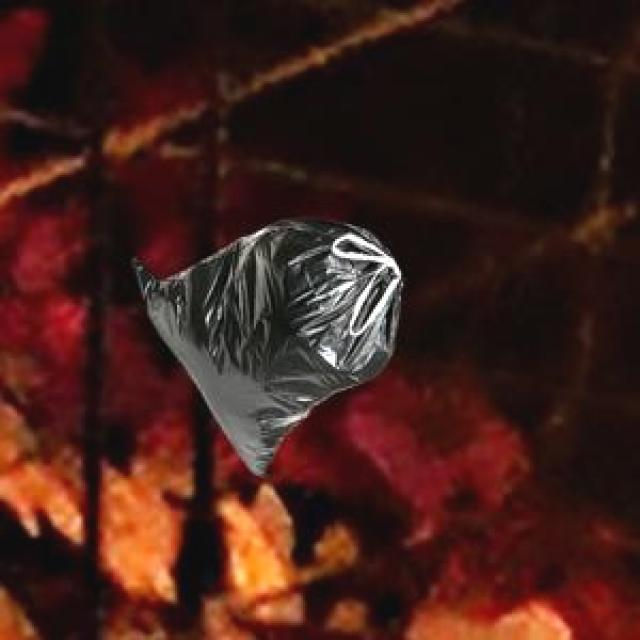Trashbag: (131, 211, 412, 481)
